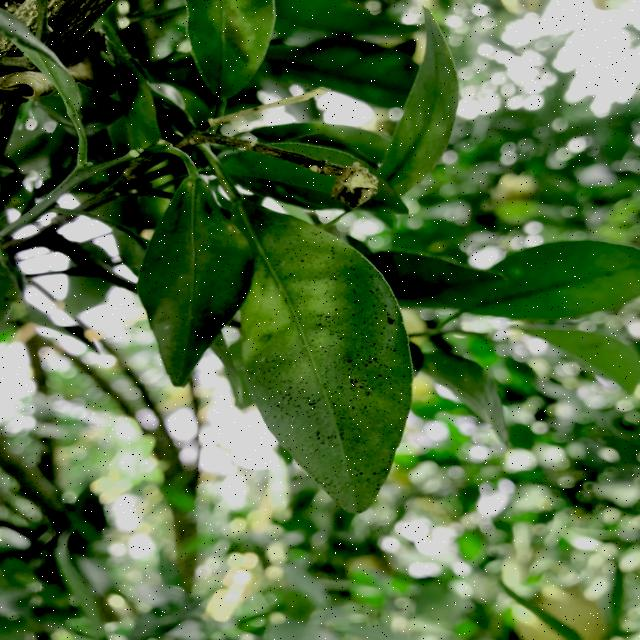melanose: (246, 233, 412, 504)
